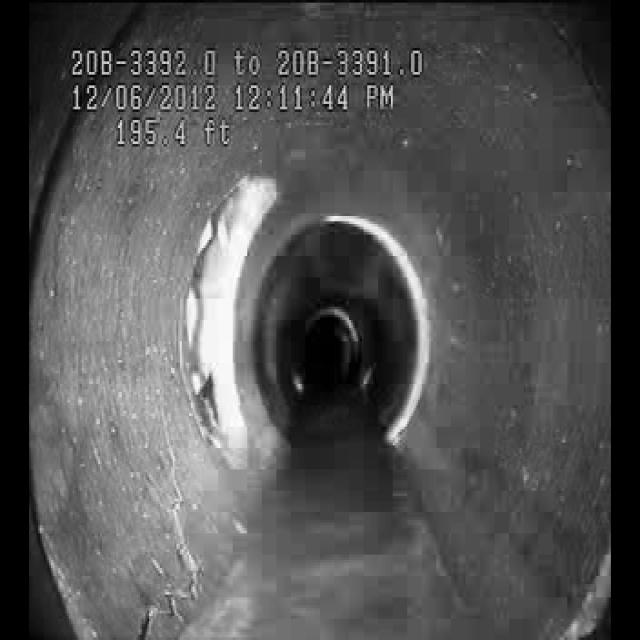Fracture: (126, 418, 222, 630)
